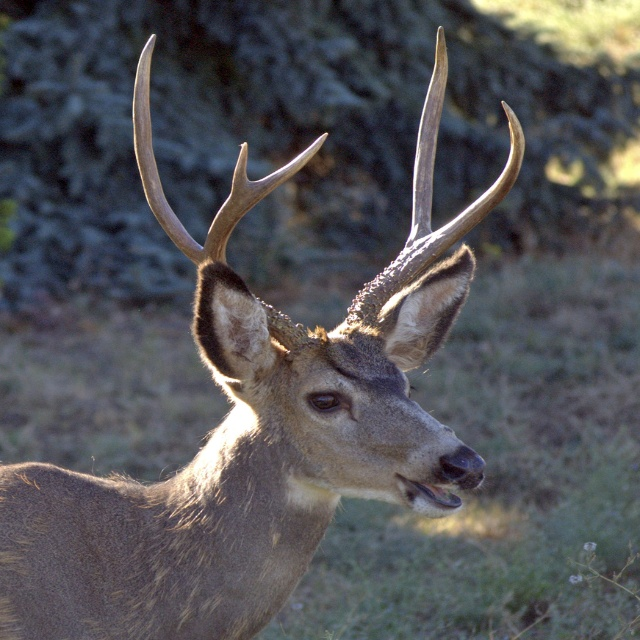Deer: (0, 26, 524, 640)
